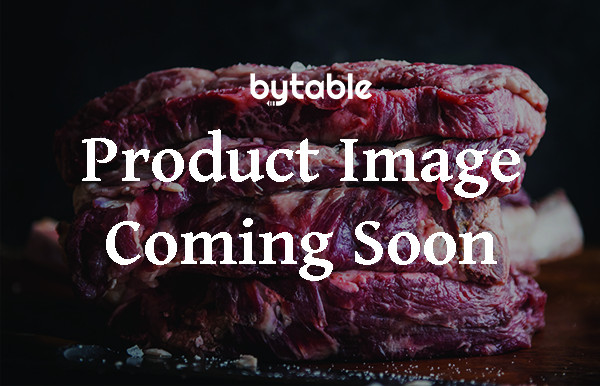ground_beef: (117, 285, 531, 361)
